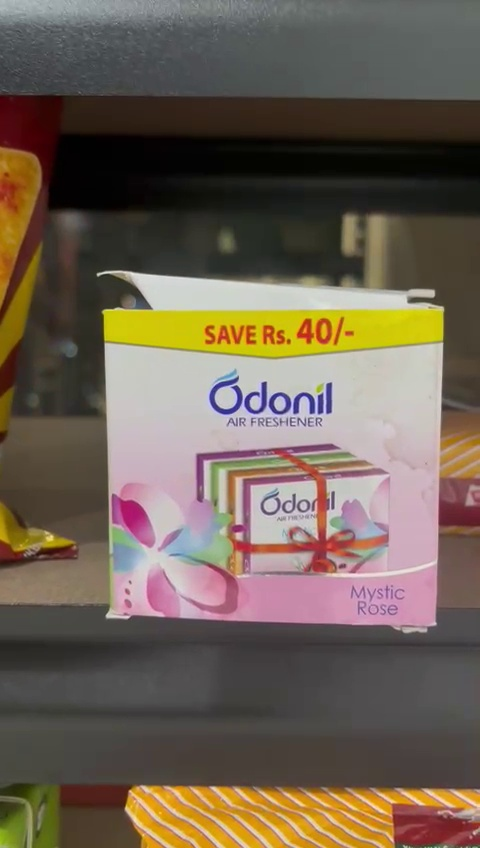Odonil: (96, 270, 438, 630)
